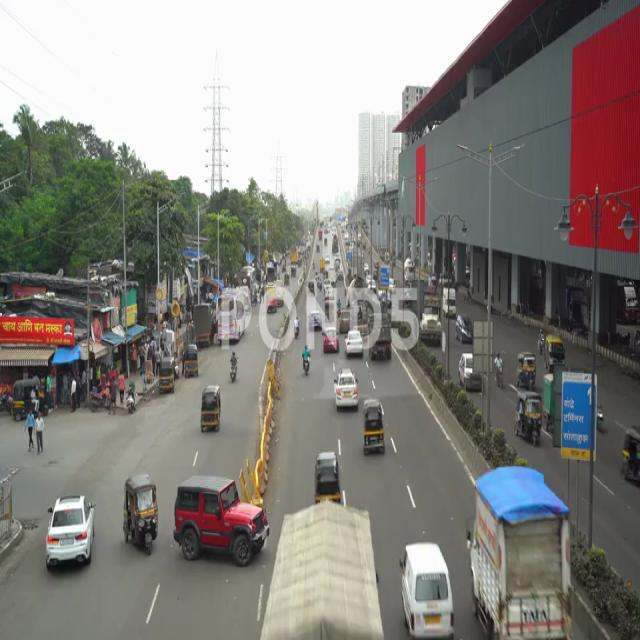car: (172, 469, 273, 565), (395, 537, 457, 640), (46, 484, 97, 581), (335, 368, 360, 416)
motorbike: (495, 350, 505, 393)
person: (34, 407, 46, 460), (108, 376, 116, 418), (118, 368, 125, 409)
rikshaw: (119, 463, 161, 565), (361, 397, 387, 464), (514, 388, 542, 445), (619, 424, 640, 494), (199, 383, 222, 440), (513, 346, 538, 389)
truck: (465, 472, 572, 640)
